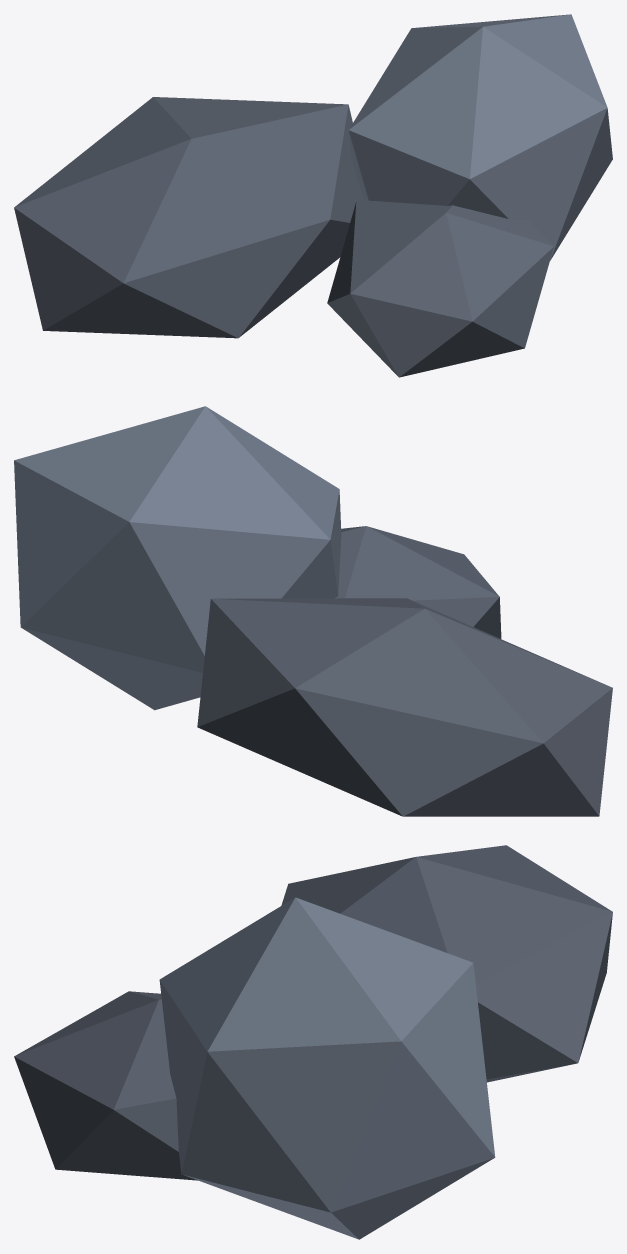
Rendered from EXTW_WestCluster_03.glb.
The picture shows the model from 3 angles, top to bottom: view 1: azimuth 30°, elevation 25°; view 2: azimuth 150°, elevation 25°; view 3: azimuth 270°, elevation 25°; orthographic projection. The views are drawn at different scales.
Parts seen in each view (by area): view 1: EXTW_WestCluster_03; view 2: EXTW_WestCluster_03; view 3: EXTW_WestCluster_03.
Part boxes in pixels (x1=…): EXTW_WestCluster_03: x1=14, y1=14, x2=612, y2=377; EXTW_WestCluster_03: x1=14, y1=406, x2=612, y2=816; EXTW_WestCluster_03: x1=14, y1=845, x2=612, y2=1239.
Bounding box in the file's own units: 2.16 × 0.9939 × 1.63.
